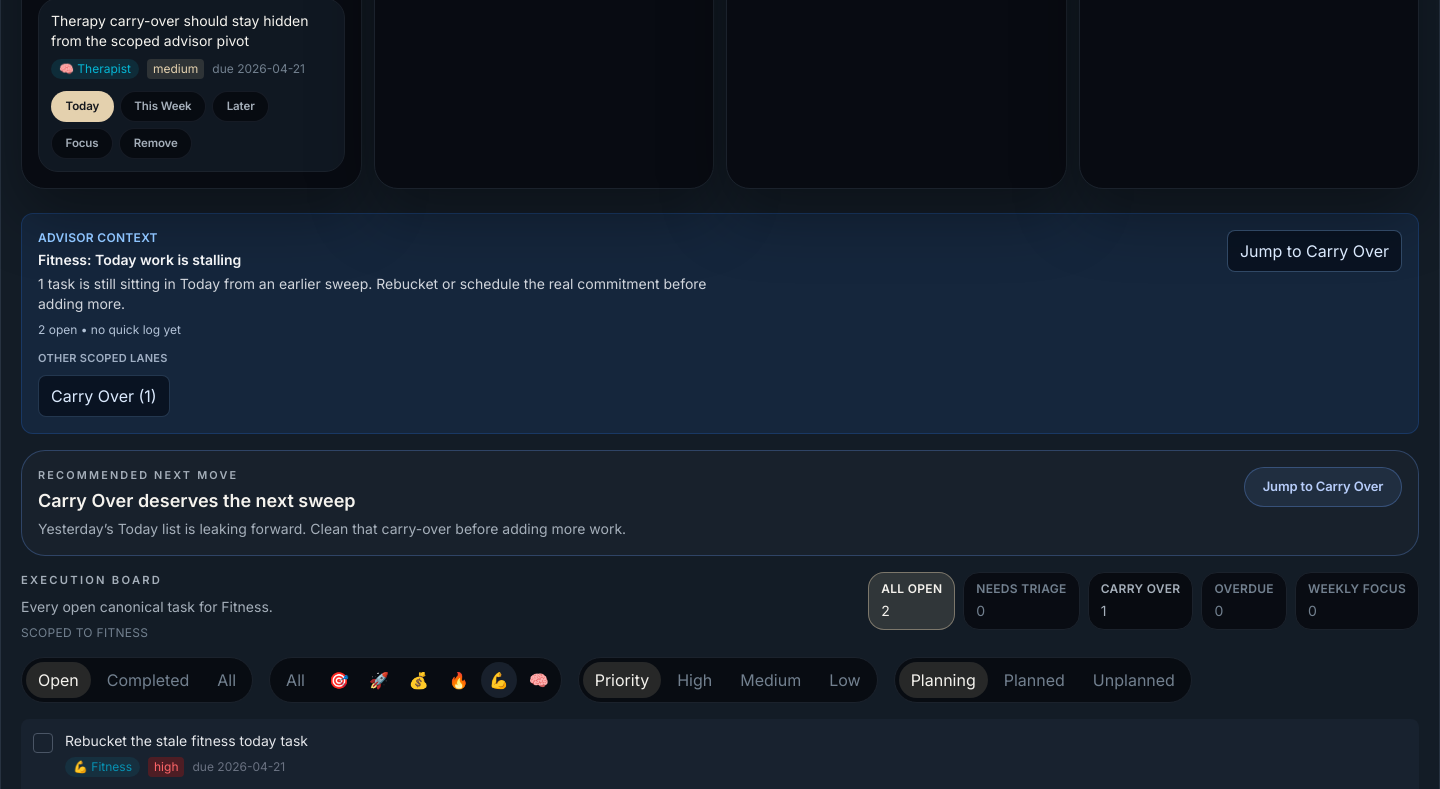
TaskDashboard › lets scoped advisor context pivot into another non-empty lane without a handoff banner
(page scrolled)
Expected: the text "Advisor Context" is shown, x1=38 y1=230 x2=158 y2=245
What coordinates should you click on to do the following:
click the button with aria-label "Open Carry Over lane"
I would click on:
 (104, 396)
Its box is x1=38 y1=375 x2=170 y2=417.
(page scrolled)
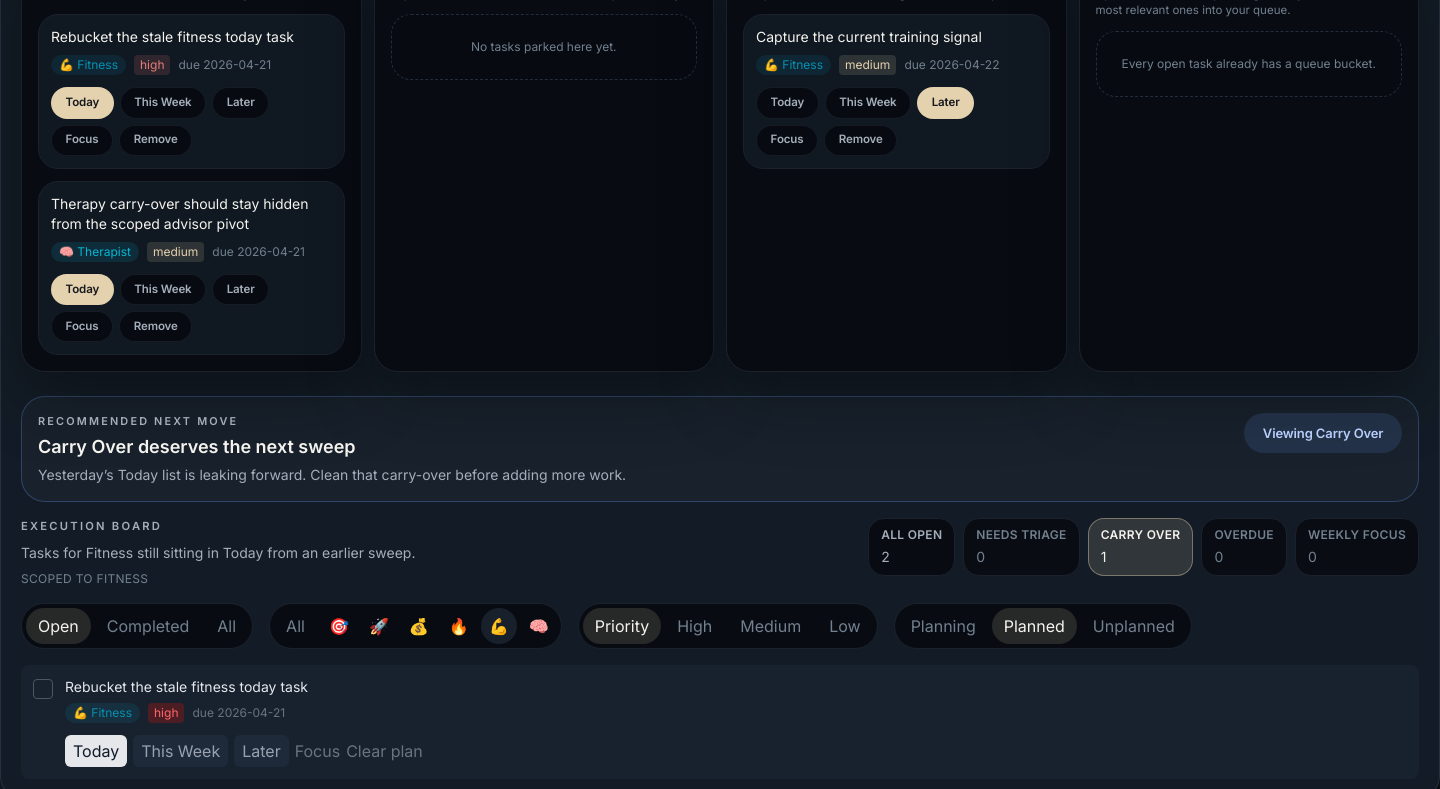
Expected: the text "Scoped to Fitness" is shown, x1=21 y1=571 x2=148 y2=586
Result: the text "Tasks for Fitness still sitting in Today from an earlier sweep." is shown at x1=21 y1=543 x2=415 y2=563
